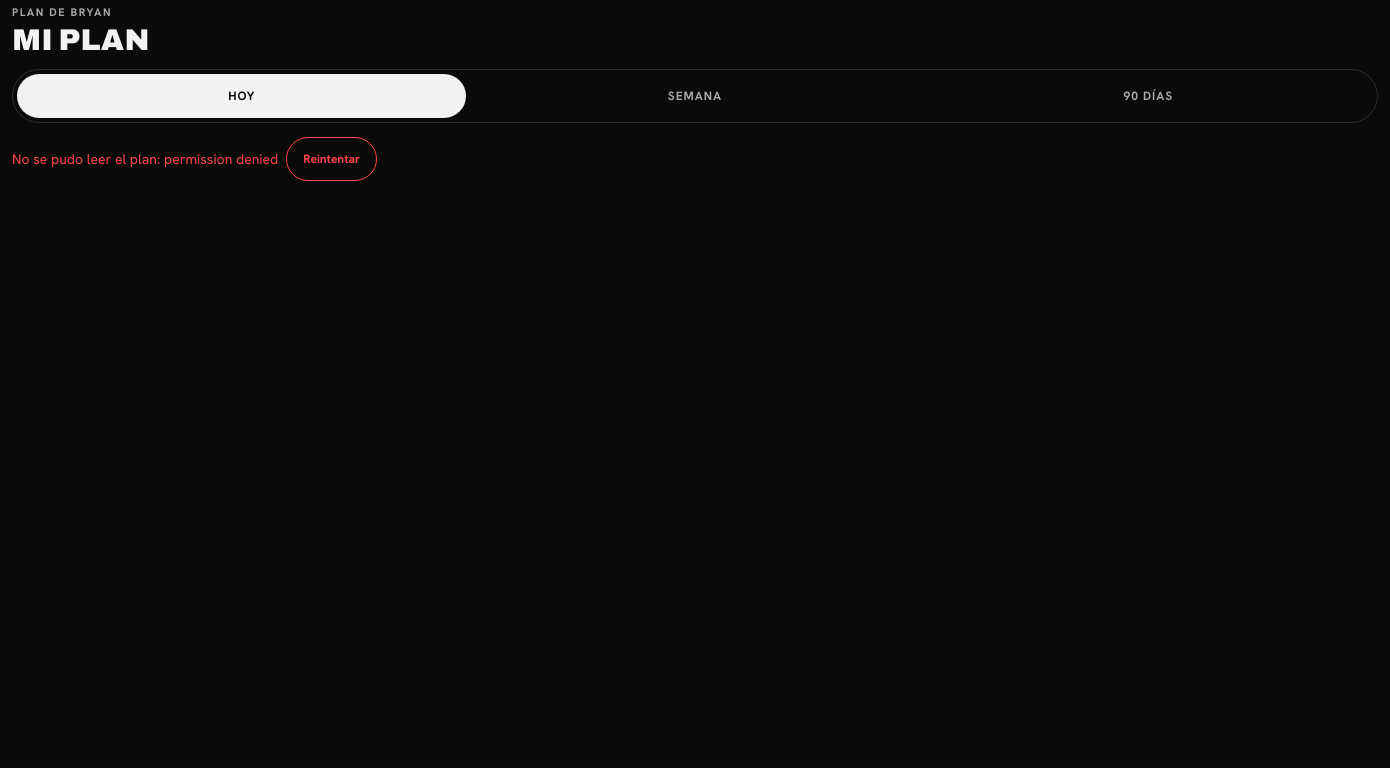
it: estados de la lectura › un fallo se dice como fallo y se puede reintentar; nunca se pinta como «no hay plan»
Expected: the message shows "permission denied", [12,150,278,168]
Click the button "Reintentar": coordinates (332, 159) [286,137,377,181]
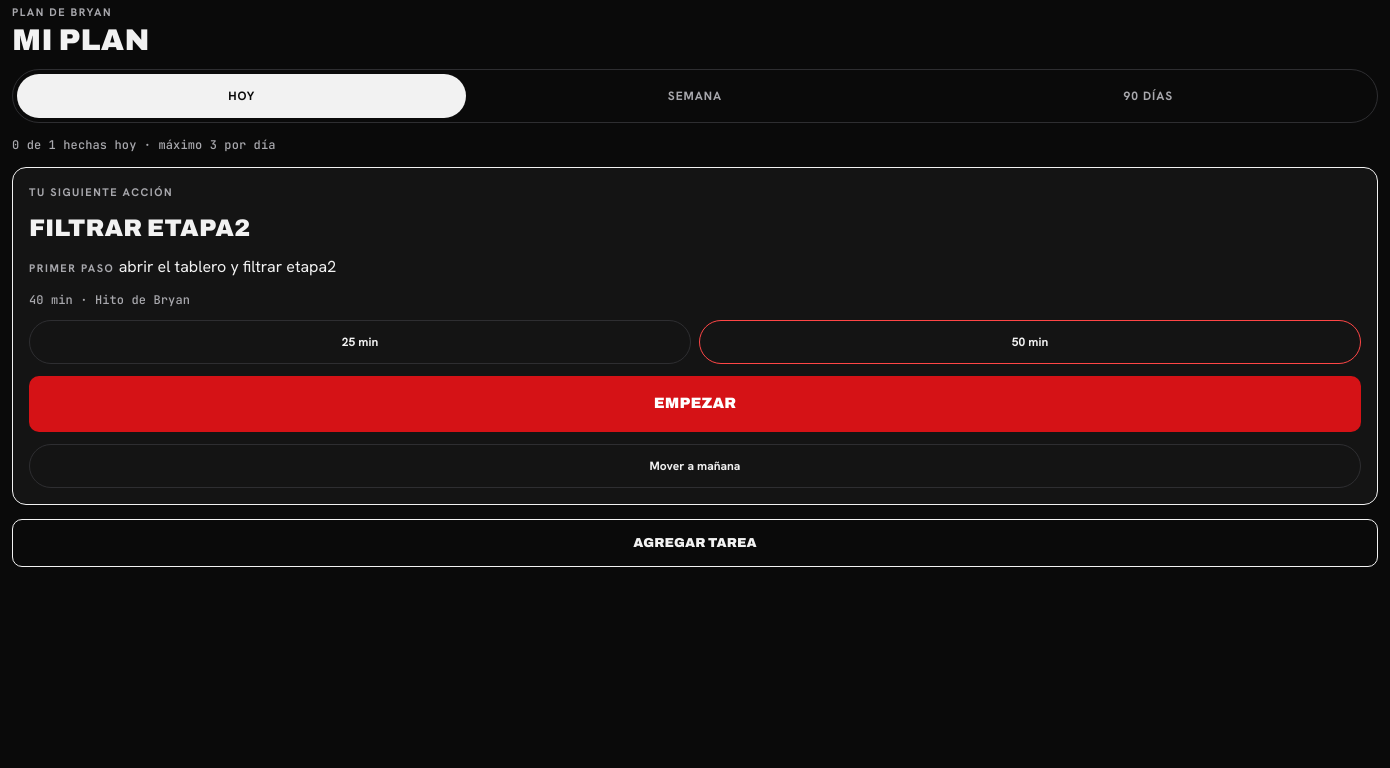
Result: the element named "Tarea principal de hoy" is shown at [12,167,1378,505]
